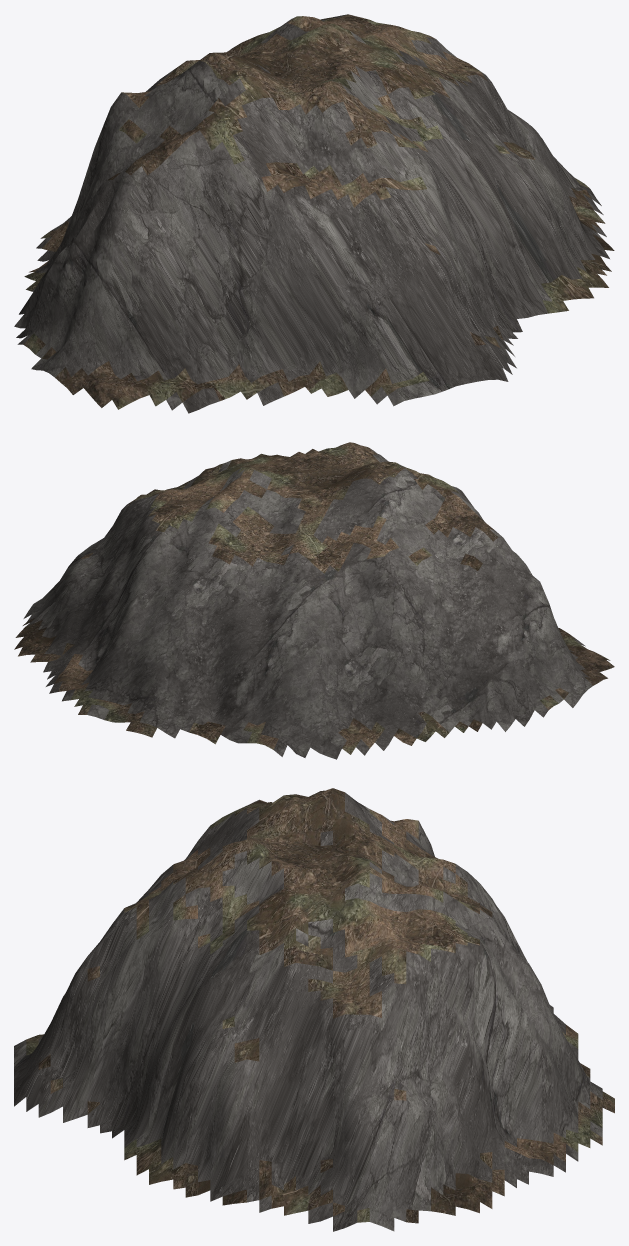
The model's file is border_shelf_a_v5_autumn.glb.
The picture shows the model from 3 angles, top to bottom: view 1: azimuth 30°, elevation 25°; view 2: azimuth 150°, elevation 25°; view 3: azimuth 270°, elevation 25°; orthographic projection. The views are drawn at different scales.
Parts seen in each view (by area): view 1: border_shelf_a; view 2: border_shelf_a; view 3: border_shelf_a.
Part boxes in pixels (x1=…): border_shelf_a: x1=14, y1=14, x2=614, y2=413; border_shelf_a: x1=14, y1=442, x2=614, y2=759; border_shelf_a: x1=14, y1=788, x2=614, y2=1231.
Bounding box in the file's own units: 1.04 × 0.4124 × 0.8909.
2 materials, 2 textured.
